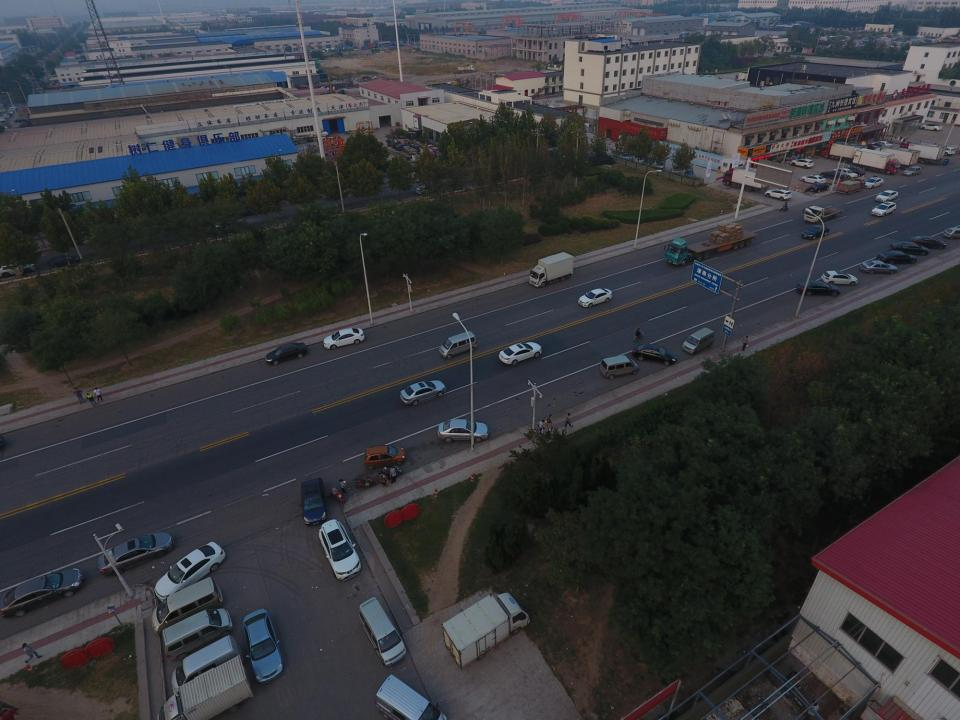car: (154, 542, 226, 602), (0, 568, 84, 617), (98, 530, 174, 576), (242, 608, 284, 684), (318, 519, 362, 581), (299, 477, 326, 526), (437, 418, 489, 442), (400, 379, 446, 406), (364, 444, 406, 471), (498, 342, 542, 365), (632, 343, 677, 365), (265, 342, 308, 365), (323, 328, 365, 349), (796, 280, 841, 297), (578, 288, 612, 308), (820, 270, 859, 286), (889, 241, 930, 256), (876, 250, 917, 265), (908, 235, 947, 250), (0, 262, 36, 278), (859, 260, 898, 274), (46, 254, 82, 269), (802, 224, 830, 240), (210, 221, 240, 235), (871, 201, 896, 217), (765, 188, 792, 201), (875, 189, 899, 202), (820, 170, 848, 181), (861, 176, 884, 188), (833, 168, 858, 179), (415, 184, 439, 195), (800, 174, 826, 184), (791, 158, 814, 169), (844, 166, 866, 177), (808, 182, 830, 193), (942, 228, 960, 240), (871, 140, 892, 150), (935, 146, 956, 156), (902, 166, 922, 176), (862, 144, 882, 154), (919, 123, 943, 131), (869, 142, 888, 152), (641, 154, 655, 167), (683, 166, 695, 180), (621, 148, 632, 162), (14, 117, 27, 123), (0, 116, 7, 122), (8, 106, 18, 110), (5, 112, 13, 117), (2, 114, 10, 119), (7, 111, 14, 115)
truck: (441, 592, 530, 672), (156, 654, 254, 720), (663, 229, 758, 266), (529, 252, 574, 288), (852, 148, 900, 175), (722, 166, 769, 192), (872, 146, 920, 169), (899, 142, 947, 164), (819, 142, 868, 163), (802, 205, 844, 224), (836, 178, 866, 195), (671, 162, 681, 176)
van: (171, 635, 243, 698), (150, 576, 223, 638), (162, 608, 234, 662), (358, 596, 407, 668), (374, 674, 448, 720), (439, 330, 477, 360), (599, 355, 639, 380), (682, 327, 715, 355), (655, 158, 666, 170)
